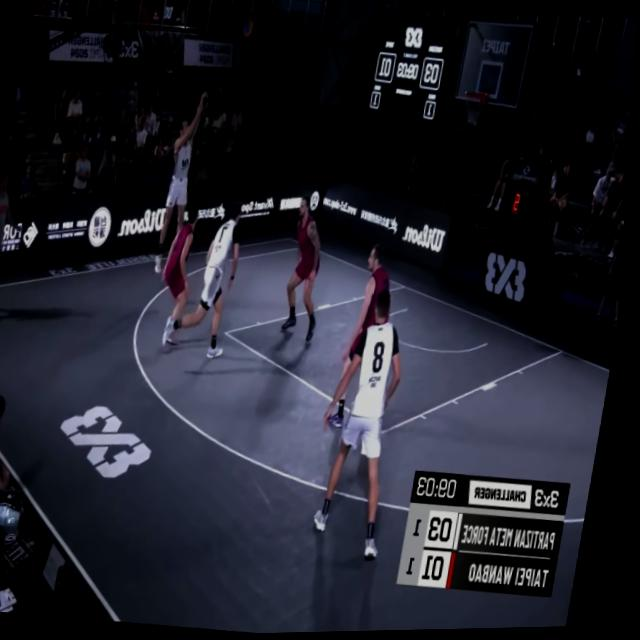ball: (240, 13, 258, 40)
hoop: (460, 87, 490, 132)
player: (309, 286, 425, 561), (327, 244, 401, 437), (168, 197, 248, 363), (154, 92, 211, 284), (279, 197, 336, 345), (155, 198, 208, 350)
